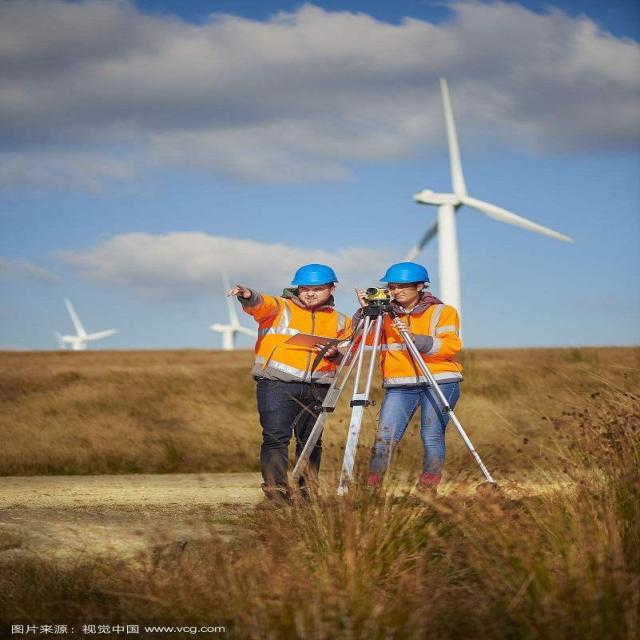Vest: (251, 299, 348, 383), (376, 303, 464, 384)
